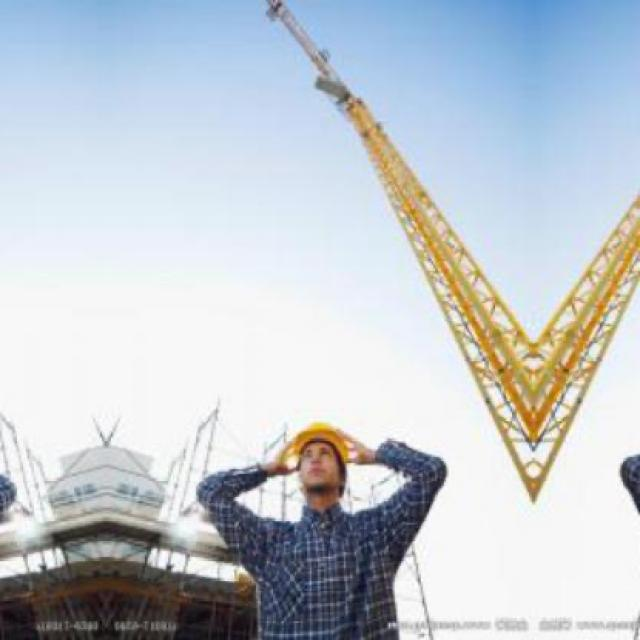helmet: (279, 412, 366, 512)
